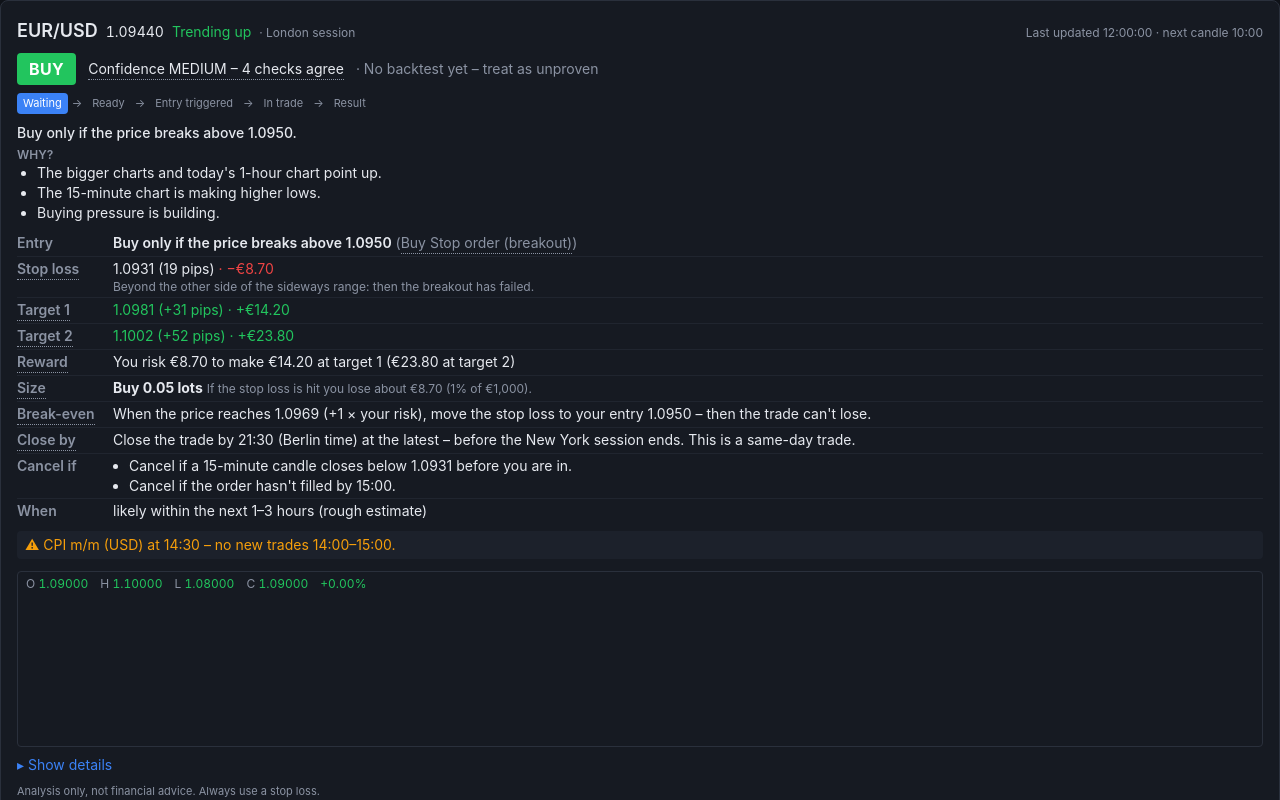
PlanCard › explains terms with a tap-able glossary popover
Click the button with aria-label "Break-even: what is this?".
click(56, 414)  # box x1=17 y1=404 x2=94 y2=424
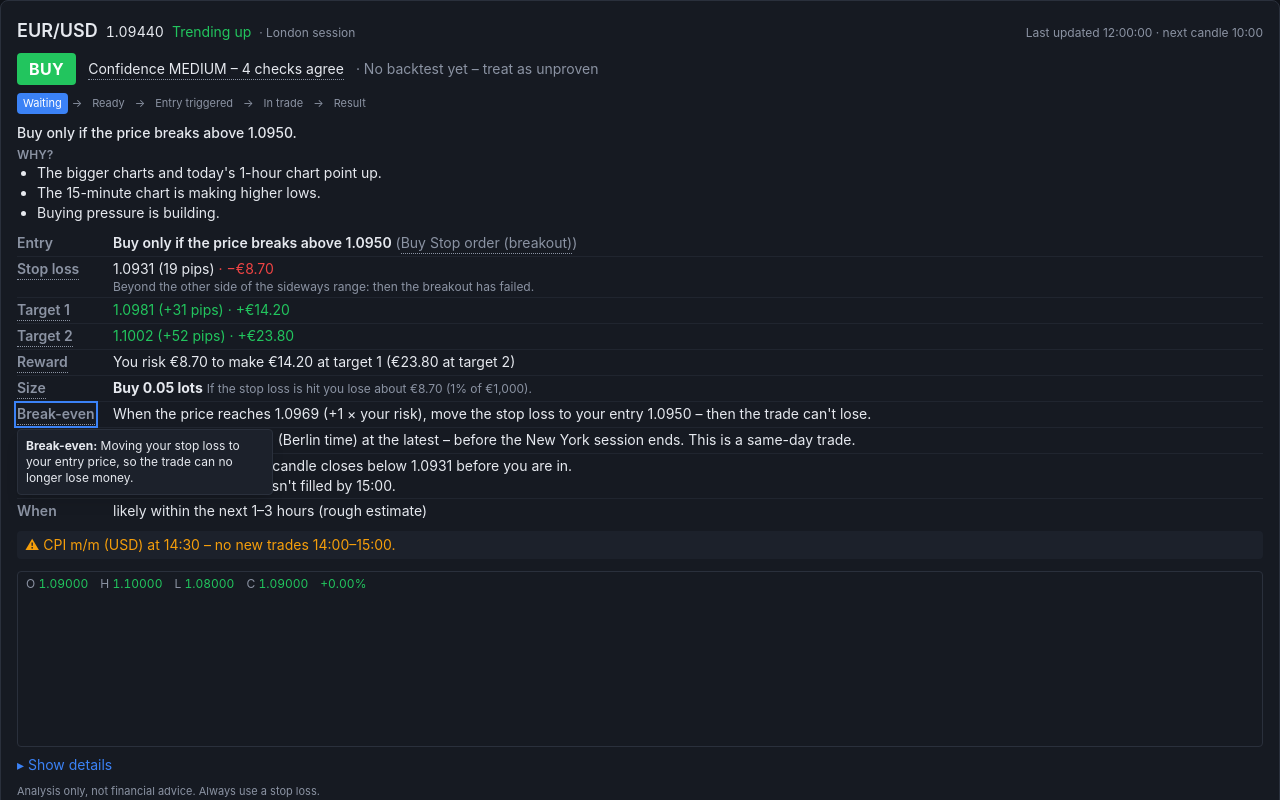
Expected: the tooltip shows "stop loss to your entry price", x1=26 y1=438 x2=240 y2=484
